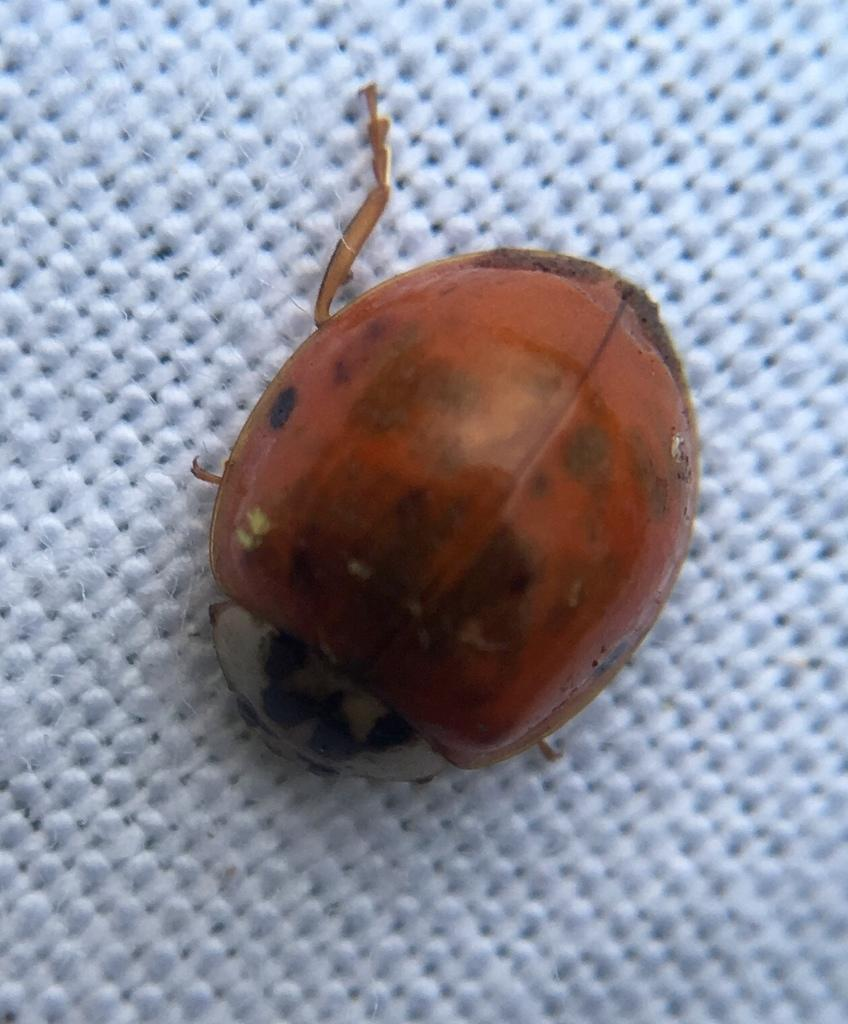ladybug: (186, 81, 706, 789)
